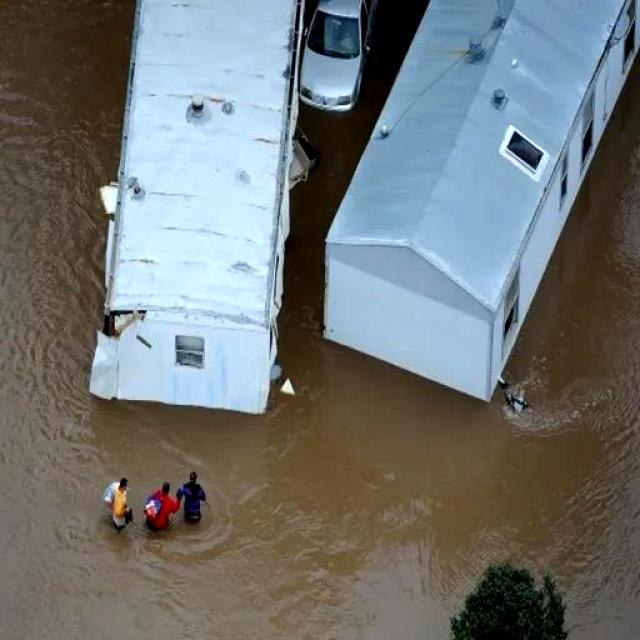civilian: (142, 478, 192, 539), (172, 470, 218, 533), (97, 476, 140, 540)
